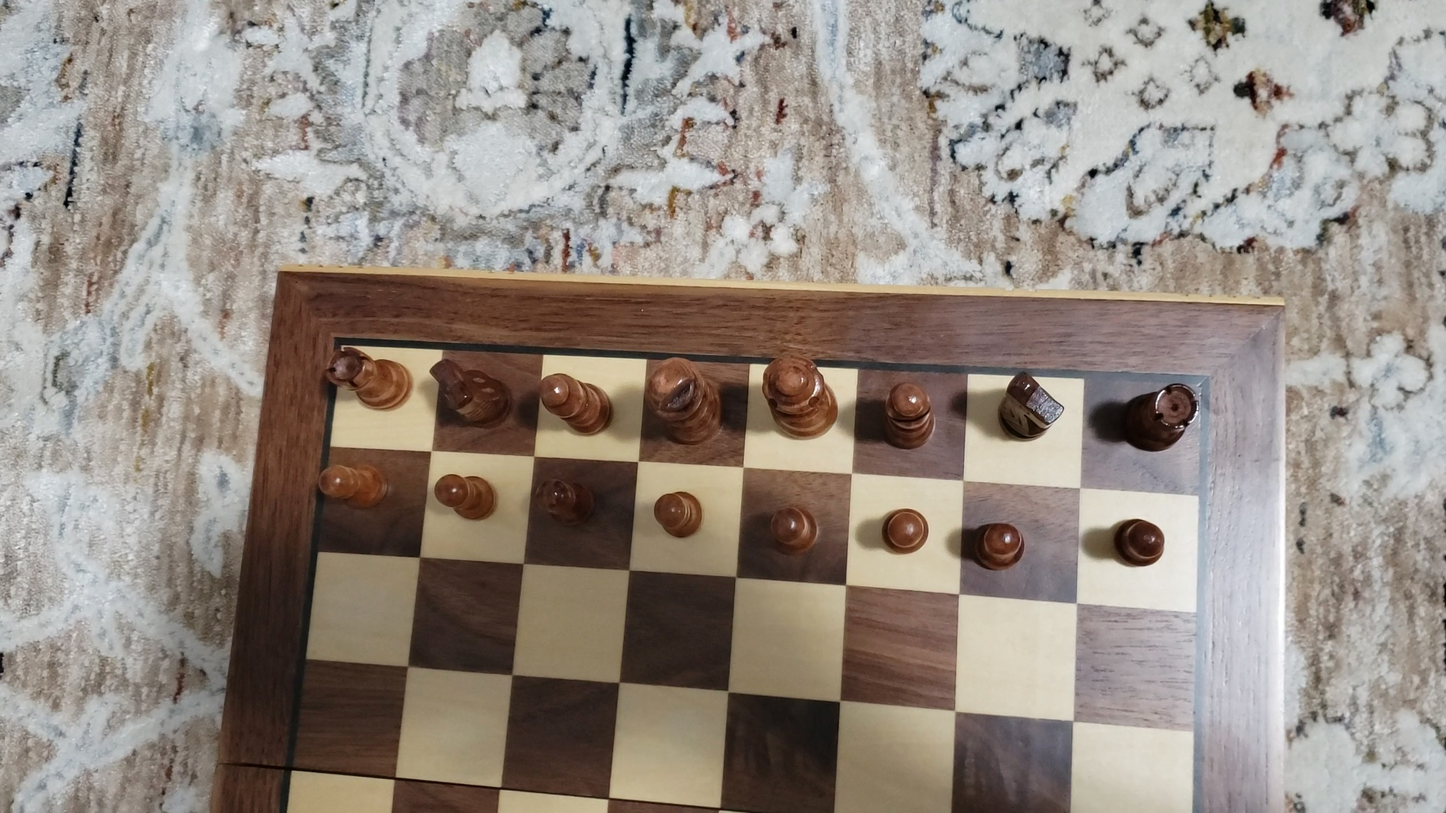black-bishop: (537, 370, 613, 436)
black-king: (644, 353, 722, 447)
black-knight: (428, 357, 512, 427), (994, 367, 1066, 441)
black-pawn: (882, 379, 935, 451), (319, 461, 387, 510), (766, 501, 821, 559), (434, 471, 496, 521), (1113, 516, 1168, 569), (539, 476, 595, 528), (974, 519, 1026, 572), (879, 505, 931, 557), (654, 488, 703, 539)
black-queen: (757, 349, 842, 440)
black-rook: (1119, 381, 1202, 453), (328, 345, 409, 411)
